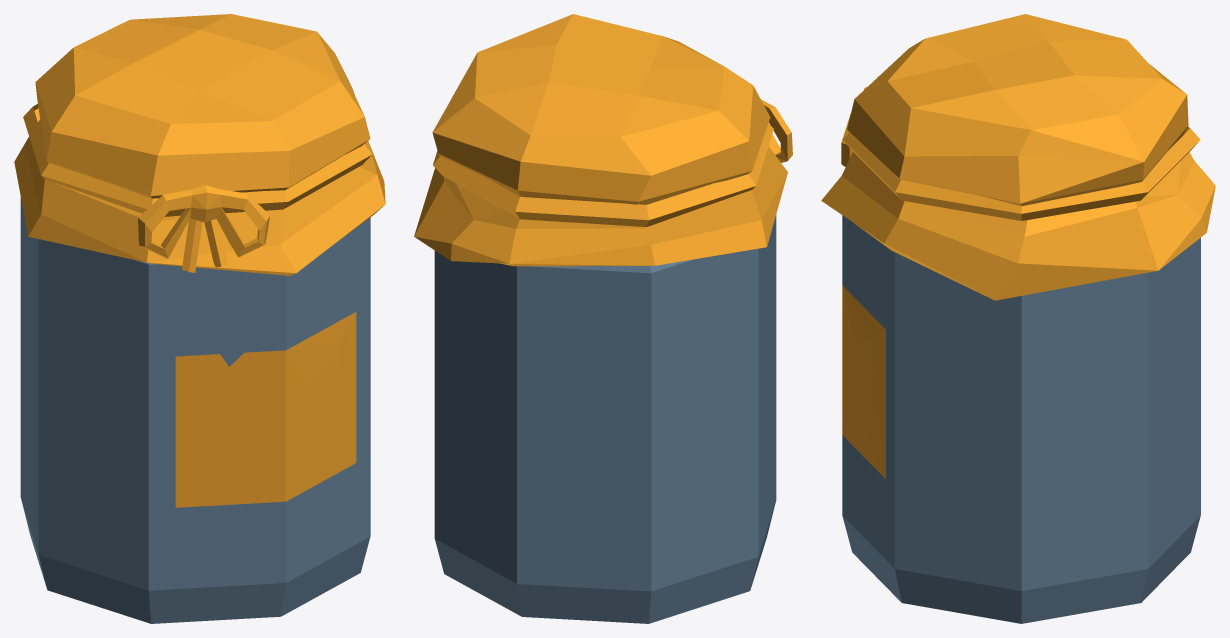
The model's file is SM_Jam_Plum.fbx.
3 renders of one model, left to right at view 1: azimuth 30°, elevation 25°; view 2: azimuth 150°, elevation 25°; view 3: azimuth 270°, elevation 25°, orthographic. The views are drawn at different scales.
Parts seen in each view (by area): view 1: jam-plum; view 2: jam-plum; view 3: jam-plum.
Boxes of the visible parts, x1,y1,x2,y2 form: jam-plum: [14, 14, 385, 623]; jam-plum: [414, 14, 792, 623]; jam-plum: [821, 14, 1215, 623].
Size of the model in its own units: 0.1307 by 0.182 by 0.1321.
